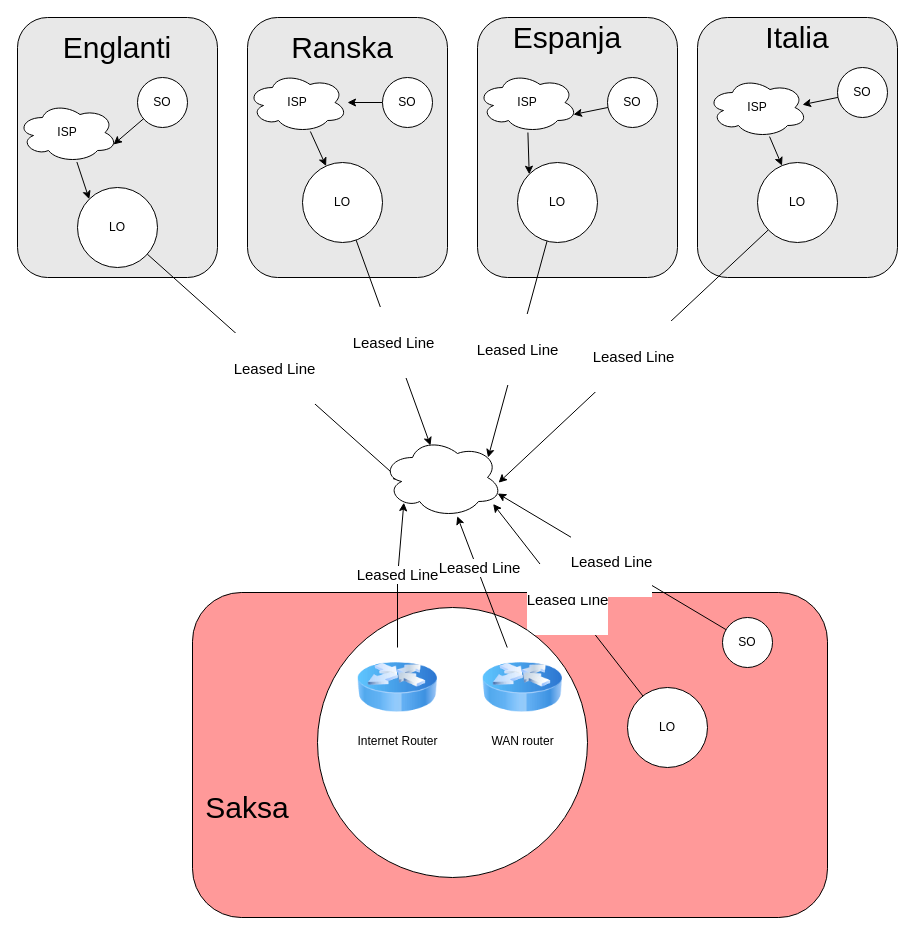
Image size: 915x935. Some labels were removed from this diagram. The box of each missing label's shape, as (x1, y1, x2, y2) in pixels:
HQ: (316, 606, 588, 878)
SD-WAN Provider: (382, 436, 502, 518)
